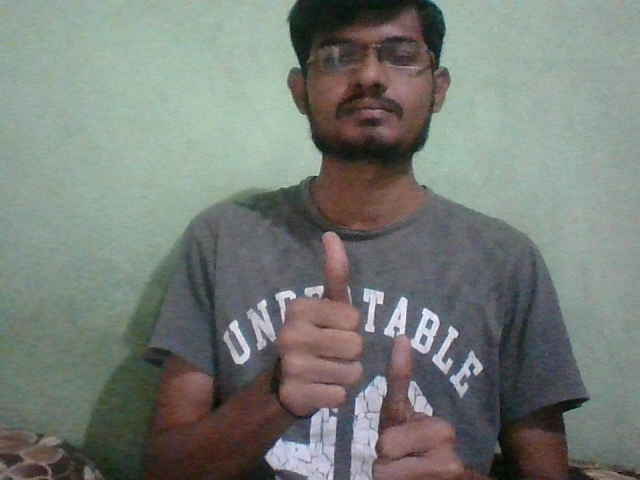which: (258, 228, 516, 480)
